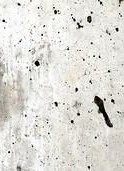Spalling: (1, 1, 124, 171)
